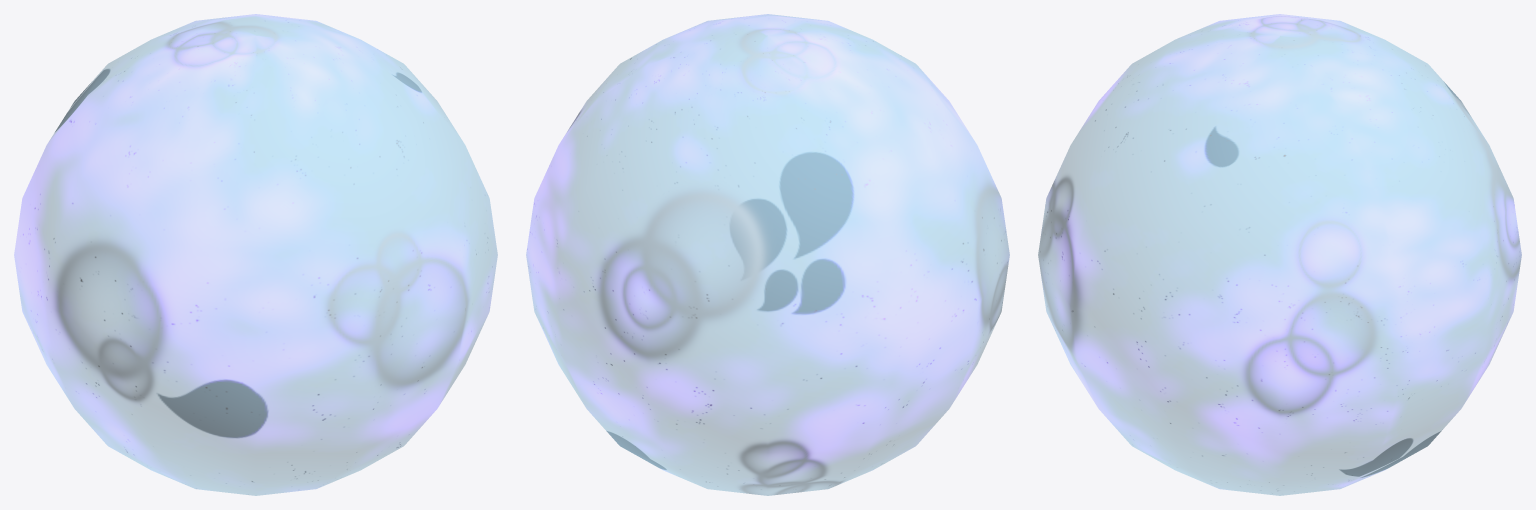
The model's file is BurbujaTxtr.glb.
The picture shows the model from 3 angles, left to right: view 1: azimuth 30°, elevation 25°; view 2: azimuth 150°, elevation 25°; view 3: azimuth 270°, elevation 25°; orthographic projection.
Parts seen in each view (by area): view 1: pSphere1; view 2: pSphere1; view 3: pSphere1.
Part boxes in pixels (bbox=[...]): pSphere1: bbox=[14, 14, 497, 495]; pSphere1: bbox=[526, 14, 1009, 495]; pSphere1: bbox=[1038, 14, 1521, 495].
Bounding box in the file's own units: 0.02 × 0.02 × 0.02.
Materials: 1 (1 with a texture image).
